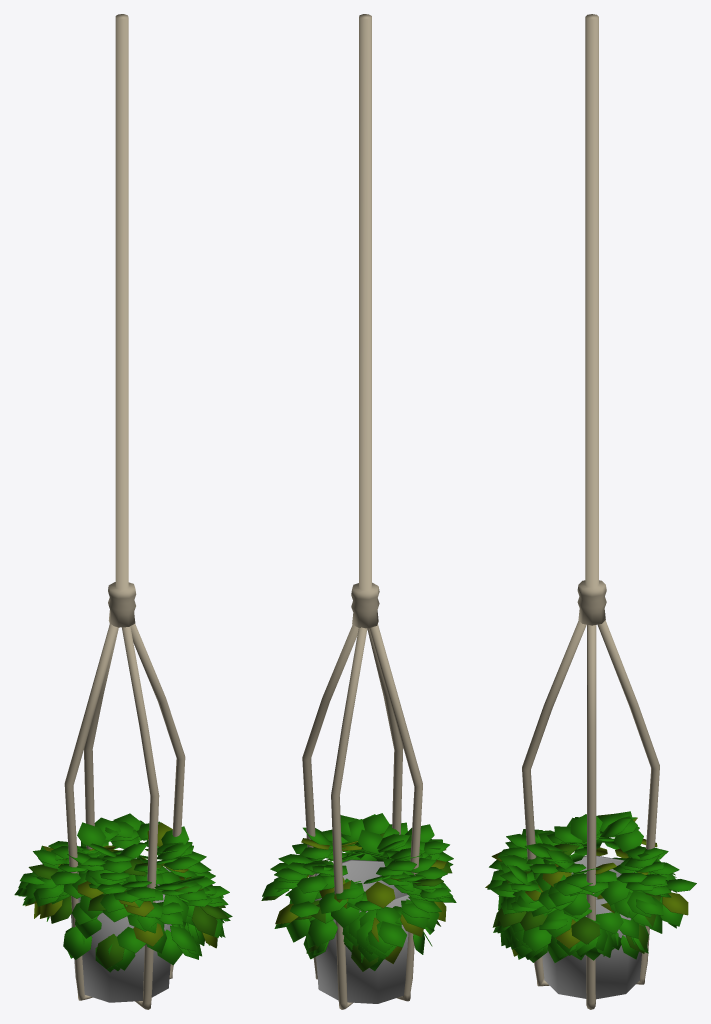
Rendered from HangingPlant1.1.fbx.
The picture shows the model from 3 angles, left to right: view 1: azimuth 30°, elevation 25°; view 2: azimuth 150°, elevation 25°; view 3: azimuth 270°, elevation 25°; orthographic projection.
Parts seen in each view (by area): view 1: leaves; view 2: leaves; view 3: leaves.
Boxes of the visible parts, box(x1,y1,x2,y2) form: leaves: box(14, 14, 232, 1009); leaves: box(261, 14, 456, 1009); leaves: box(485, 14, 696, 1009).
Size of the model in its own units: 374 by 1914 by 379.
